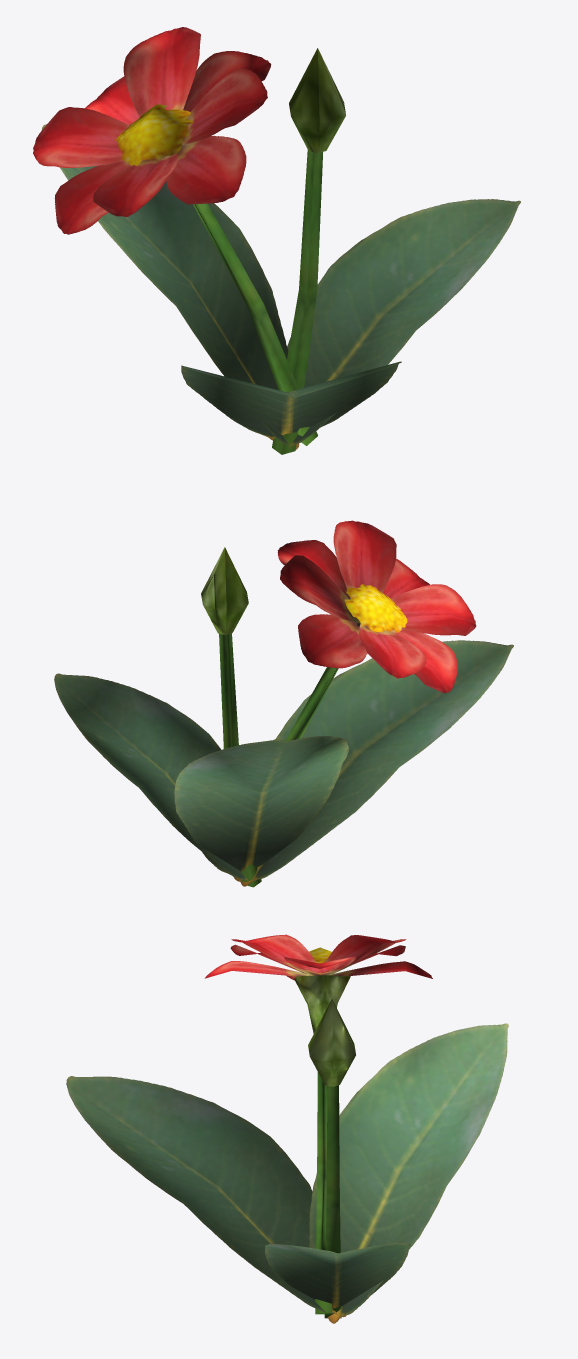
The model's file is redf2.obj.
The picture shows the model from 3 angles, top to bottom: view 1: azimuth 30°, elevation 25°; view 2: azimuth 150°, elevation 25°; view 3: azimuth 270°, elevation 25°; orthographic projection. The views are drawn at different scales.
Visible parts, largest first — view 1: redflower02; view 2: redflower02; view 3: redflower02.
Boxes of the visible parts, left/top/right/bottom form: redflower02: left=33, top=27, right=520, bottom=454; redflower02: left=54, top=520, right=513, bottom=887; redflower02: left=66, top=934, right=508, bottom=1323.
Bounding box in the file's own units: 25.7 × 21.83 × 29.71.
Materials: 2 (2 with a texture image).
